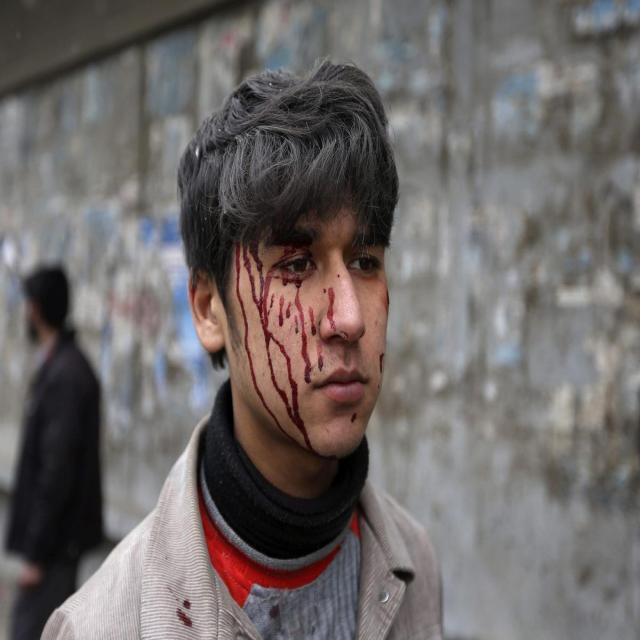flood: (225, 208, 354, 451)
